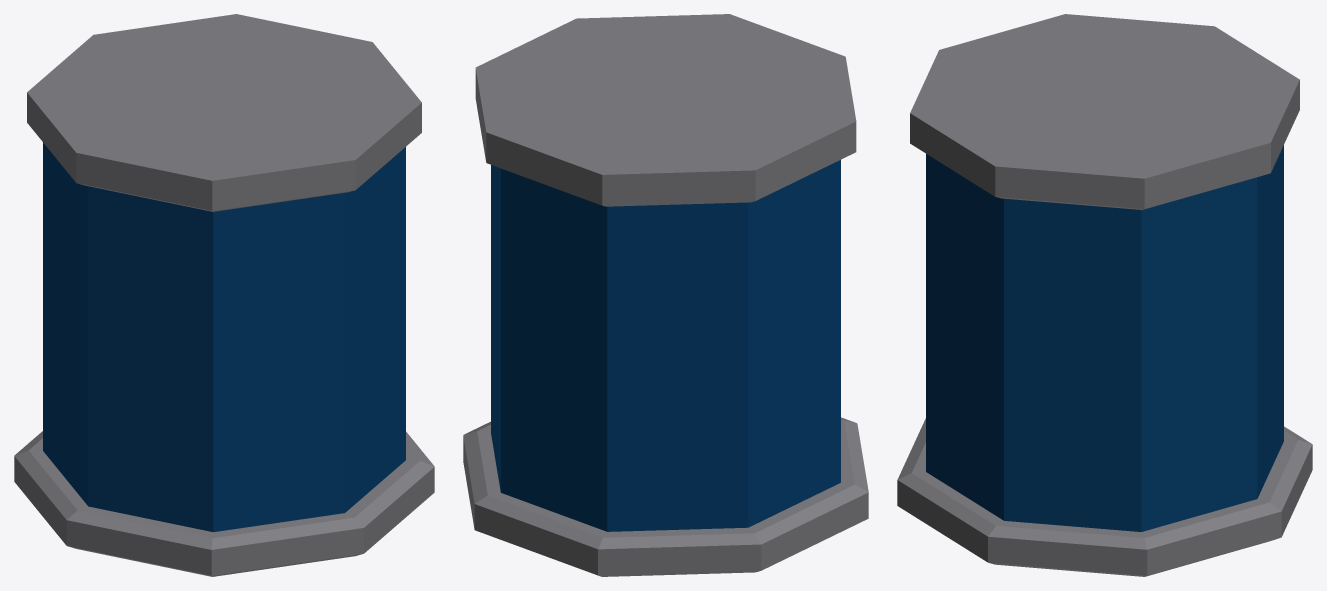
File: SM_Prop_CenterTube_02.glb
The picture shows the model from 3 angles, left to right: view 1: azimuth 30°, elevation 25°; view 2: azimuth 150°, elevation 25°; view 3: azimuth 270°, elevation 25°; orthographic projection.
Visible parts, largest first — view 1: SM_Prop_CenterTube_Glass_02, SM_Prop_CenterTube_02; view 2: SM_Prop_CenterTube_Glass_02, SM_Prop_CenterTube_02; view 3: SM_Prop_CenterTube_Glass_02, SM_Prop_CenterTube_02.
Part boxes in pixels (x1,y1,x2,y2): SM_Prop_CenterTube_Glass_02: (43, 142, 405, 532); SM_Prop_CenterTube_02: (14, 14, 434, 576); SM_Prop_CenterTube_Glass_02: (491, 160, 840, 531); SM_Prop_CenterTube_02: (463, 14, 868, 576); SM_Prop_CenterTube_Glass_02: (926, 145, 1283, 531); SM_Prop_CenterTube_02: (897, 14, 1312, 576).
Size of the model in its own units: 3.78 by 4 by 3.78.
Materials: 2 (1 with a texture image).
